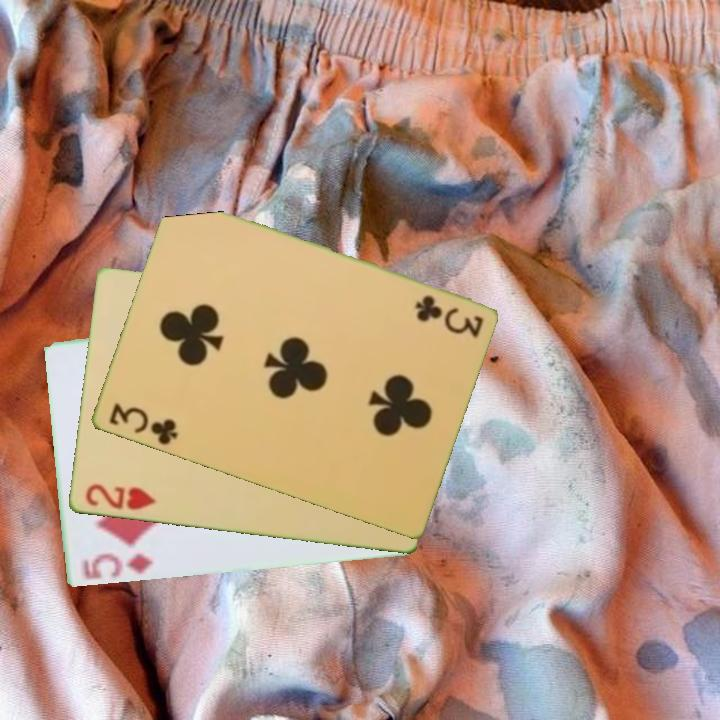2h: (81, 480, 159, 514)
3c: (104, 400, 180, 449), (411, 292, 486, 340)
5d: (79, 550, 156, 583)
